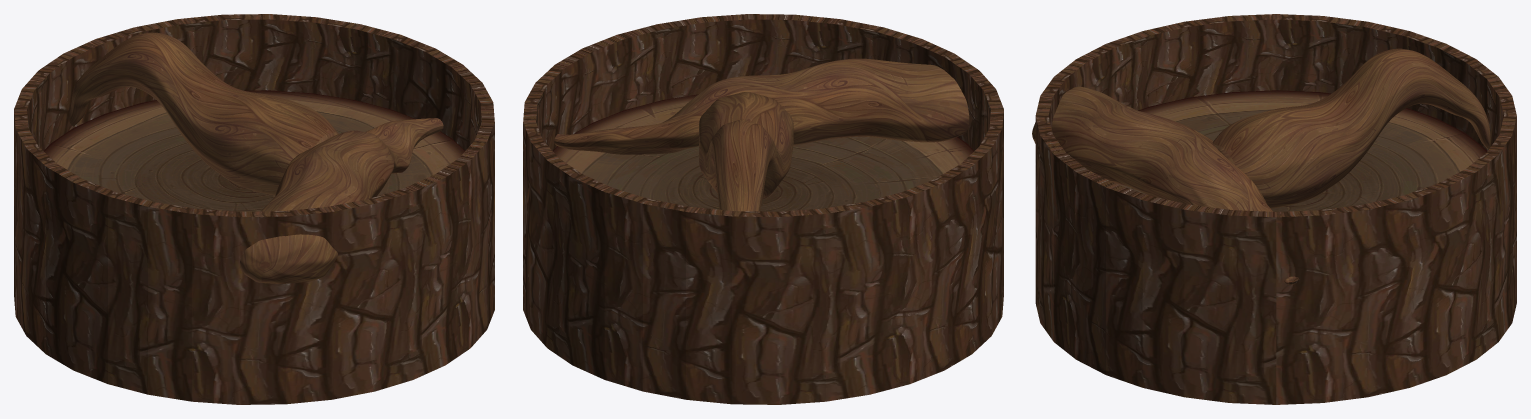
The model's file is livello 1_2.fbx.
3 views of the same model, side by side, from view 1: azimuth 30°, elevation 25°; view 2: azimuth 150°, elevation 25°; view 3: azimuth 270°, elevation 25° (orthographic).
Parts seen in each view (by area): view 1: Cylinder, Root.003; view 2: Cylinder, Root.003; view 3: Cylinder, Root.003.
Boxes of the visible parts, bbox=[...] form: Cylinder: bbox=[14, 14, 494, 404]; Root.003: bbox=[69, 32, 443, 283]; Cylinder: bbox=[523, 14, 1003, 404]; Root.003: bbox=[554, 58, 969, 211]; Cylinder: bbox=[1035, 14, 1516, 404]; Root.003: bbox=[1032, 48, 1490, 284].
Size of the model in its own units: 10137 by 5343 by 10074.
